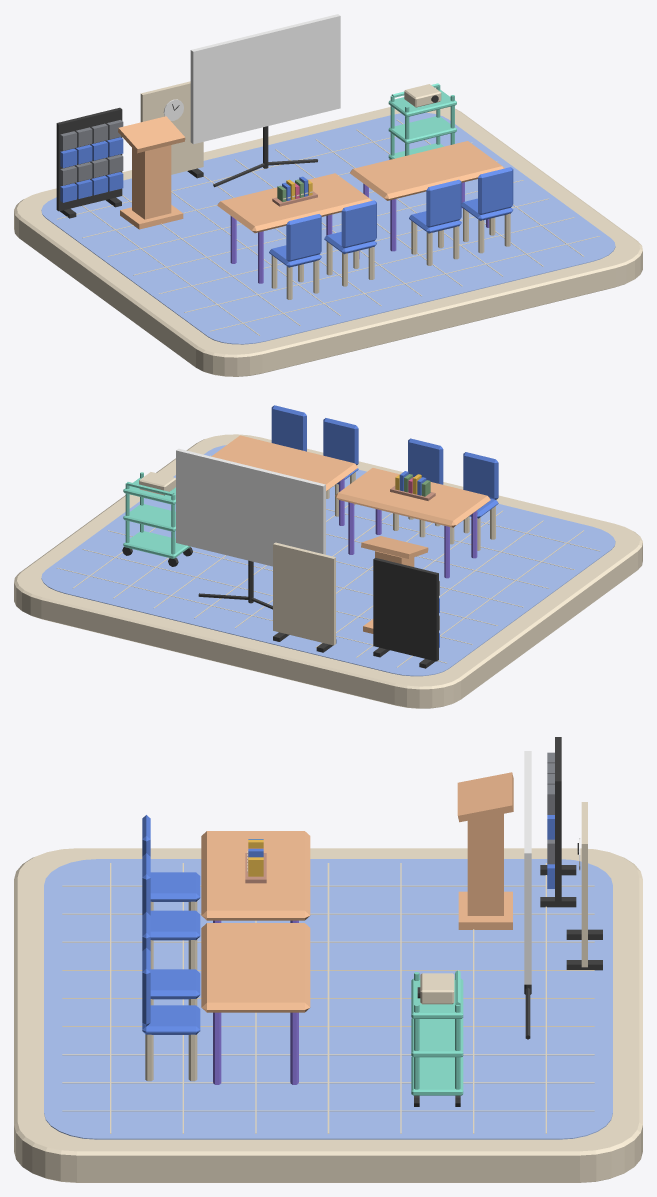
The picture shows the model from 3 angles, top to bottom: view 1: azimuth 30°, elevation 25°; view 2: azimuth 150°, elevation 25°; view 3: azimuth 270°, elevation 25°; orthographic projection. The views are drawn at different scales.
Parts seen in each view (by area): view 1: COM-02 Floor Surface, COM-01 Rounded Base Direct, Screen, Rounded table top.001, Rounded table top, Body, Panel.001, Panel, Reading top, Backrest.003, Backrest, Backrest.002 (+6 smaller); view 2: COM-02 Floor Surface, COM-01 Rounded Base Direct, Screen, Panel, Panel.001, Rounded table top, Rounded table top.001, Backrest, Backrest.002, Backrest.003, Backrest.001, Tray (+4 smaller); view 3: COM-02 Floor Surface, COM-01 Rounded Base Direct, Rounded table top.001, Rounded table top, Body, Reading top, Screen, Tray.001, Tray, Seat.003, Seat.001, Seat.002 (+14 smaller).
Boxes of the visible parts, x1,y1,x2,y2 form: COM-02 Floor Surface: [41, 112, 615, 344]; COM-01 Rounded Base Direct: [14, 106, 642, 376]; Screen: [190, 14, 340, 144]; Rounded table top.001: [350, 141, 504, 200]; Rounded table top: [217, 173, 372, 233]; Body: [132, 145, 171, 219]; Panel.001: [140, 81, 203, 174]; Panel: [56, 107, 122, 211]; Reading top: [118, 116, 185, 153]; Backrest.003: [478, 167, 513, 214]; Backrest: [286, 214, 321, 261]; Backrest.002: [426, 179, 461, 227]; COM-02 Floor Surface: [41, 445, 615, 676]; COM-01 Rounded Base Direct: [14, 434, 642, 708]; Screen: [176, 448, 325, 566]; Panel: [373, 558, 438, 661]; Panel.001: [273, 542, 335, 645]; Rounded table top: [335, 468, 490, 527]; Rounded table top.001: [211, 435, 357, 491]; Backrest: [463, 452, 498, 499]; Backrest.002: [323, 418, 358, 464]; Backrest.003: [271, 405, 306, 451]; Backrest.001: [408, 438, 443, 484]; Tray: [123, 531, 190, 558]; COM-02 Floor Surface: [44, 859, 612, 1139]; COM-01 Rounded Base Direct: [14, 848, 642, 1182]; Rounded table top.001: [201, 923, 310, 1012]; Rounded table top: [201, 831, 310, 920]; Body: [467, 814, 503, 915]; Reading top: [457, 772, 513, 822]; Screen: [524, 751, 531, 984]; Tray.001: [411, 1018, 463, 1057]; Tray: [411, 1056, 463, 1095]; Seat.003: [142, 1005, 200, 1034]; Seat.001: [150, 910, 200, 940]; Seat.002: [150, 969, 200, 999].
Bounding box in the file's own units: 6 × 2.14 × 5.2.
1 material, 1 textured.
